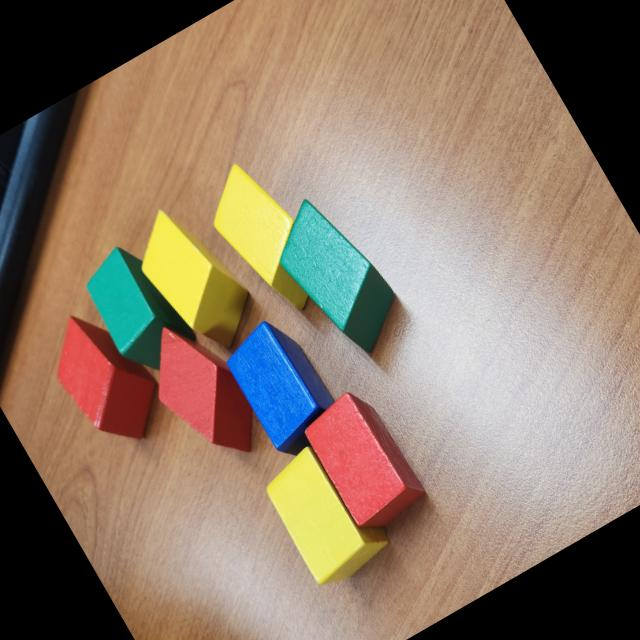blue: (217, 310, 349, 464)
green: (258, 180, 415, 369), (72, 234, 202, 384)
red: (130, 306, 274, 479), (34, 296, 179, 462), (298, 383, 430, 539)
yellow: (119, 190, 268, 366), (192, 152, 335, 329), (253, 431, 398, 594)
